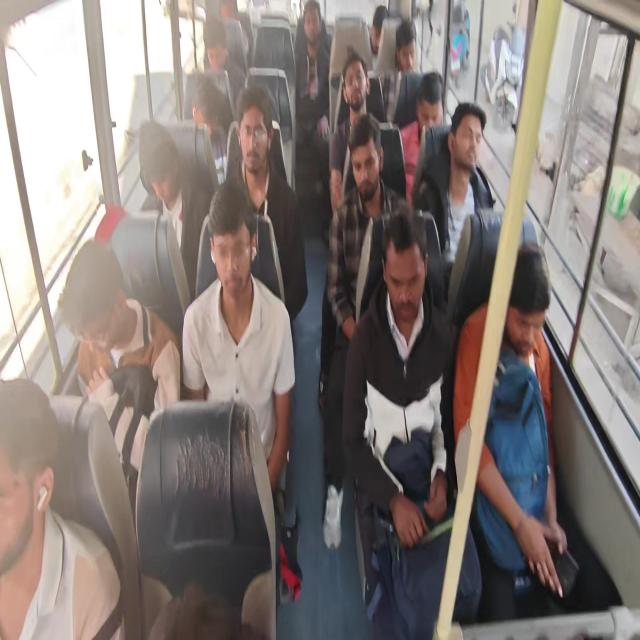person: (0, 357, 56, 580), (60, 224, 140, 354), (199, 178, 261, 309), (501, 231, 556, 358), (376, 200, 428, 328), (129, 118, 187, 198), (224, 99, 283, 166), (348, 112, 389, 203), (451, 91, 486, 171), (186, 68, 224, 139), (412, 62, 444, 133), (344, 58, 378, 111), (298, 0, 334, 49), (355, 3, 394, 46), (199, 22, 235, 68), (399, 18, 419, 71), (215, 1, 246, 28)
